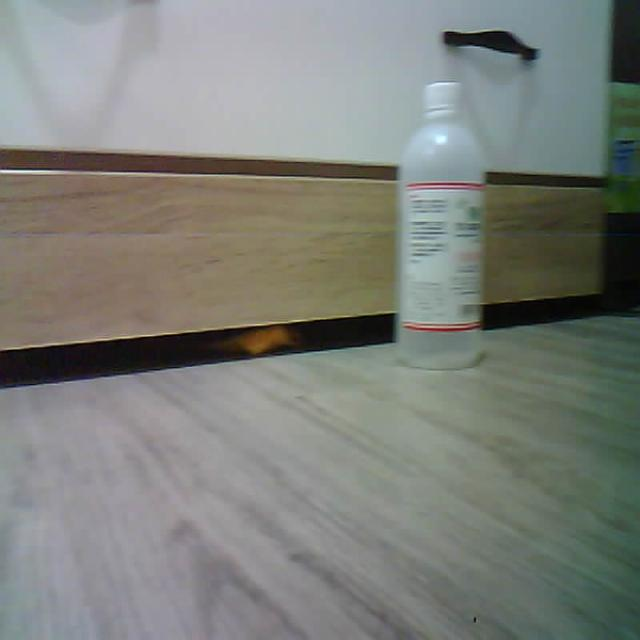bottle: (394, 82, 485, 368)
